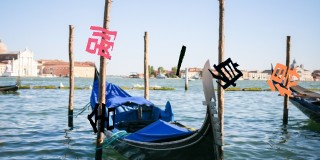一: (175, 44, 186, 77)
剐: (84, 24, 118, 59)
得: (269, 63, 301, 97)
身: (208, 58, 244, 90)
